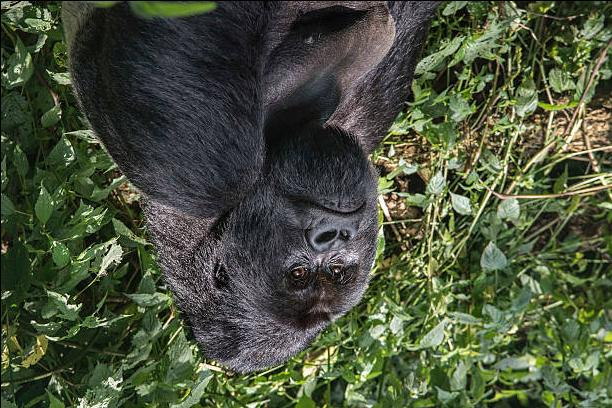goriile_montagne: (71, 0, 443, 381)
